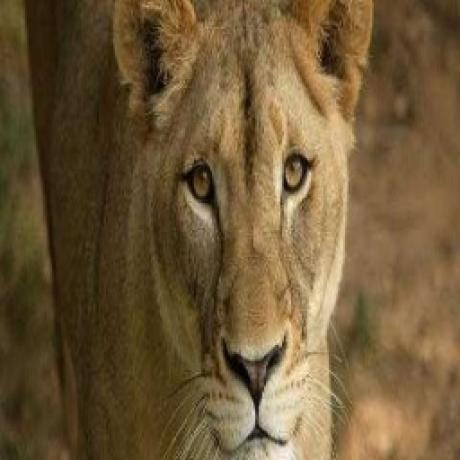Lion: (20, 0, 376, 460)
